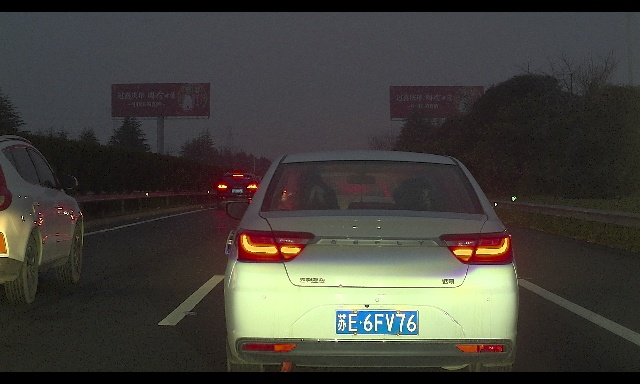car: (223, 151, 520, 372), (0, 134, 84, 305), (217, 172, 260, 211)
